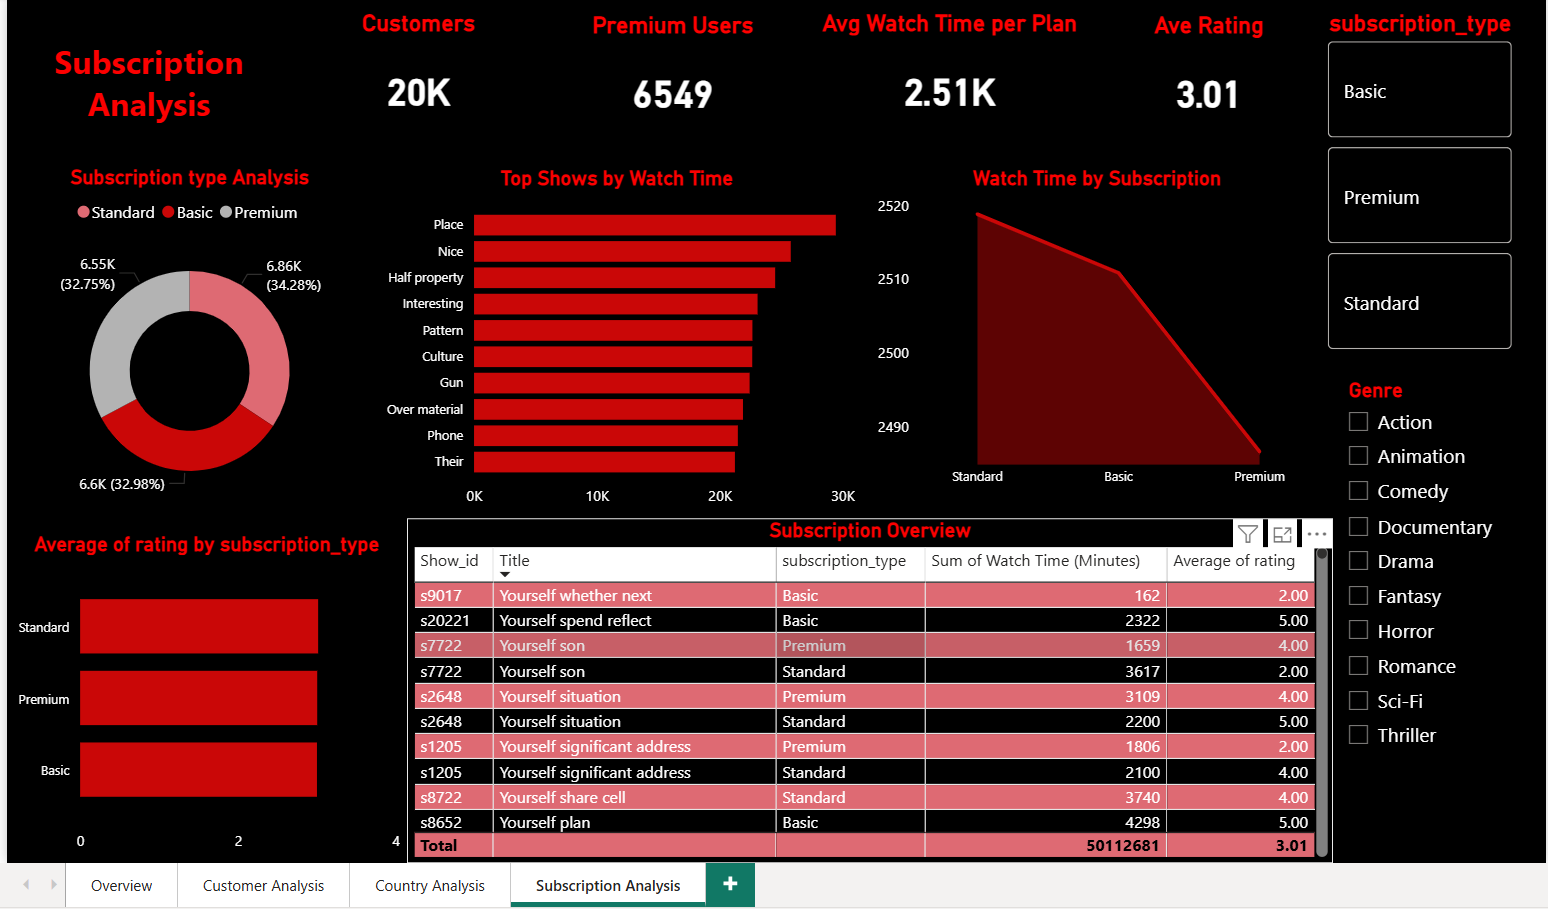

What the dashboard file says about the page in this screenshot:
{"tool":"powerbi","page":{"name":"Subscription Analysis","canvas":[1280,720],"ordinal":3},"visuals":[{"type":"card","title":"Customers","fields":{"Values":["Netflix Ratings.Total Subscriptions"]},"box":[236.5,10.8,210.8,112.2],"z":0},{"type":"card","title":"Premium Users","fields":{"Values":["Netflix Ratings.Premium Users"]},"box":[447.3,12.2,213.5,112.2],"z":1000},{"type":"card","title":"Avg Watch Time per Plan","fields":{"Values":["Netflix Ratings.Avg Watch Time per Plan"]},"box":[660.8,10.8,245.9,112.2],"z":2000},{"type":"card","title":"Ave Rating","fields":{"Values":["Netflix Ratings.Avg Rating per Plan"]},"box":[906.8,12.2,186.5,110.8],"z":3000},{"type":"donutChart","title":"Subscription type Analysis","fields":{"Category":["Netflix Ratings.subscription_type"],"Y":["CountNonNull(Netflix Ratings.customer_id)"]},"box":[0,139.2,304.1,294.6],"z":4000},{"type":"areaChart","title":"Watch Time by Subscription","fields":{"Category":["Netflix Ratings.subscription_type"],"Y":["Avg(Netflix Ratings.Watch Time (Minutes))"]},"box":[718.9,140.5,374.3,275.7],"z":5000},{"type":"barChart","fields":{"Category":["Netflix Ratings.subscription_type"],"Y":["Avg(Netflix Ratings.rating)"]},"box":[0,444.6,332.4,275.7],"z":6000},{"type":"barChart","title":"Top Shows by Watch Time","fields":{"Category":["Netflix.Title"],"Y":["Sum(Netflix Ratings.Watch Time (Minutes))"]},"box":[304.1,140.5,405.4,293.2],"z":7000},{"type":"tableEx","title":"Subscription Overview","fields":{"Values":["Netflix.Show_id","Netflix.Title","Netflix Ratings.subscription_type","Sum(Netflix Ratings.Watch Time (Minutes))","Avg(Netflix Ratings.rating)"]},"box":[332.4,433.8,770.3,286.5],"z":8000},{"type":"textbox","box":[0,12.2,236.5,112.2],"z":9000},{"type":"slicer","fields":{"Values":["Netflix.Genre"]},"box":[1102.7,312.2,177,408.1],"z":10000},{"type":"advancedSlicerVisual","fields":{"Values":["Netflix Ratings.subscription_type"]},"box":[1093.2,10.8,163.5,290.5],"z":11000}]}

Visuals, with their boxes on the page's 1280x720 design canvas (x1, y1, x2, y2). These are canvas units, not pixel positions in the 1548x909 screenshot, which may show the page scaled, cropped or inside an application window:
"Customers" card: {"left": 236, "top": 11, "right": 447, "bottom": 123}
"Premium Users" card: {"left": 447, "top": 12, "right": 661, "bottom": 124}
"Avg Watch Time per Plan" card: {"left": 661, "top": 11, "right": 907, "bottom": 123}
"Ave Rating" card: {"left": 907, "top": 12, "right": 1093, "bottom": 123}
"Subscription type Analysis" donutChart: {"left": 0, "top": 139, "right": 304, "bottom": 434}
"Watch Time by Subscription" areaChart: {"left": 719, "top": 140, "right": 1093, "bottom": 416}
barChart - Netflix Ratings.subscription_type x Avg(Netflix Ratings.rating): {"left": 0, "top": 445, "right": 332, "bottom": 720}
"Top Shows by Watch Time" barChart: {"left": 304, "top": 140, "right": 710, "bottom": 434}
"Subscription Overview" tableEx: {"left": 332, "top": 434, "right": 1103, "bottom": 720}
textbox: {"left": 0, "top": 12, "right": 236, "bottom": 124}
slicer - Netflix.Genre: {"left": 1103, "top": 312, "right": 1280, "bottom": 720}
advancedSlicerVisual - Netflix Ratings.subscription_type: {"left": 1093, "top": 11, "right": 1257, "bottom": 301}
